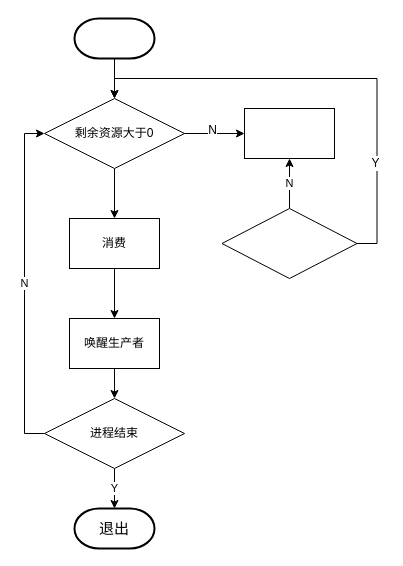
The diagram is 403 pixels wide and 566 high, and some of its shapes have lost their labels. Each missing label, with the centre of its shape:
"开始" goes at [114,38].
"等待" goes at [289,133].
"被唤醒" goes at [289,243].
